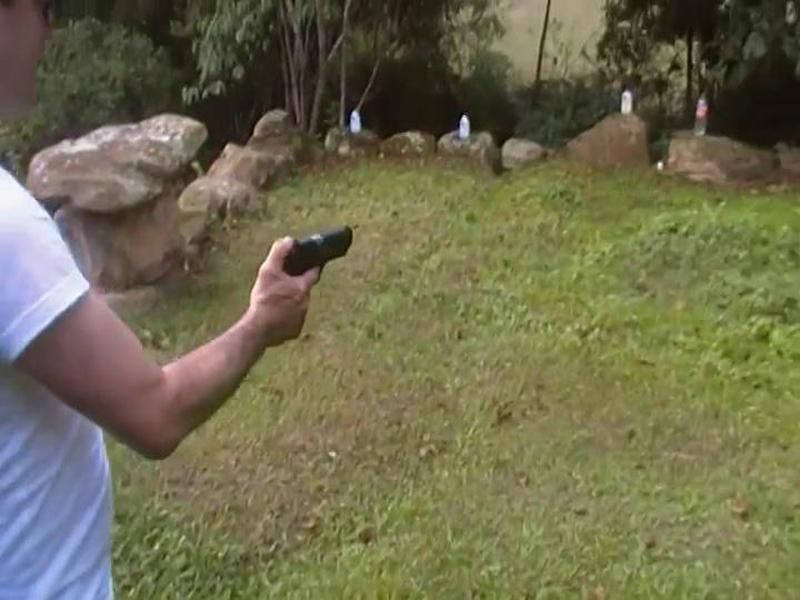Pistola: (266, 221, 365, 309)
